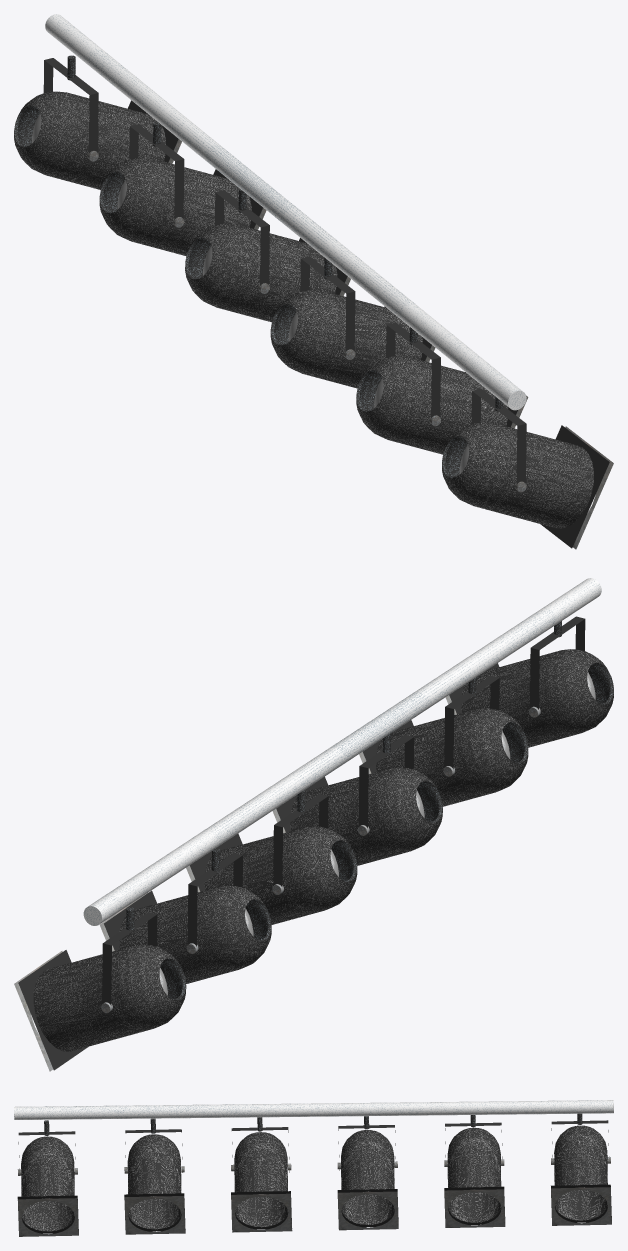
3 renders of one model, top to bottom at view 1: azimuth 30°, elevation 25°; view 2: azimuth 150°, elevation 25°; view 3: azimuth 270°, elevation 25°, orthographic. The views are drawn at different scales.
Parts seen in each view (by area): view 1: ParCanBody (×13), Par_Bar, ParCanYoke (×6); view 2: ParCanBody (×14), Par_Bar, ParCanYoke (×6); view 3: ParCanBody (×18), Par_Bar, ParCanYoke (×3).
Boxes of the visible parts, x1,y1,x2,y2 form: ParCanBody (×13): [14, 91, 609, 548]; Par_Bar: [45, 14, 526, 410]; ParCanYoke (×6): [43, 58, 526, 494]; ParCanBody (×14): [18, 649, 613, 1070]; Par_Bar: [83, 578, 601, 925]; ParCanYoke (×6): [102, 616, 585, 1015]; ParCanBody (×18): [17, 1125, 611, 1236]; Par_Bar: [14, 1100, 613, 1119]; ParCanYoke (×3): [18, 1120, 609, 1170].
Bounding box in the file's own units: 15.4 × 90.02 × 20.3.
Materials: 8 (3 with a texture image).
